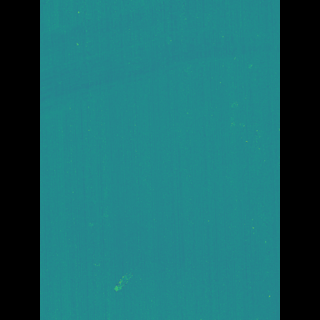Loch: (68, 0, 228, 115)
